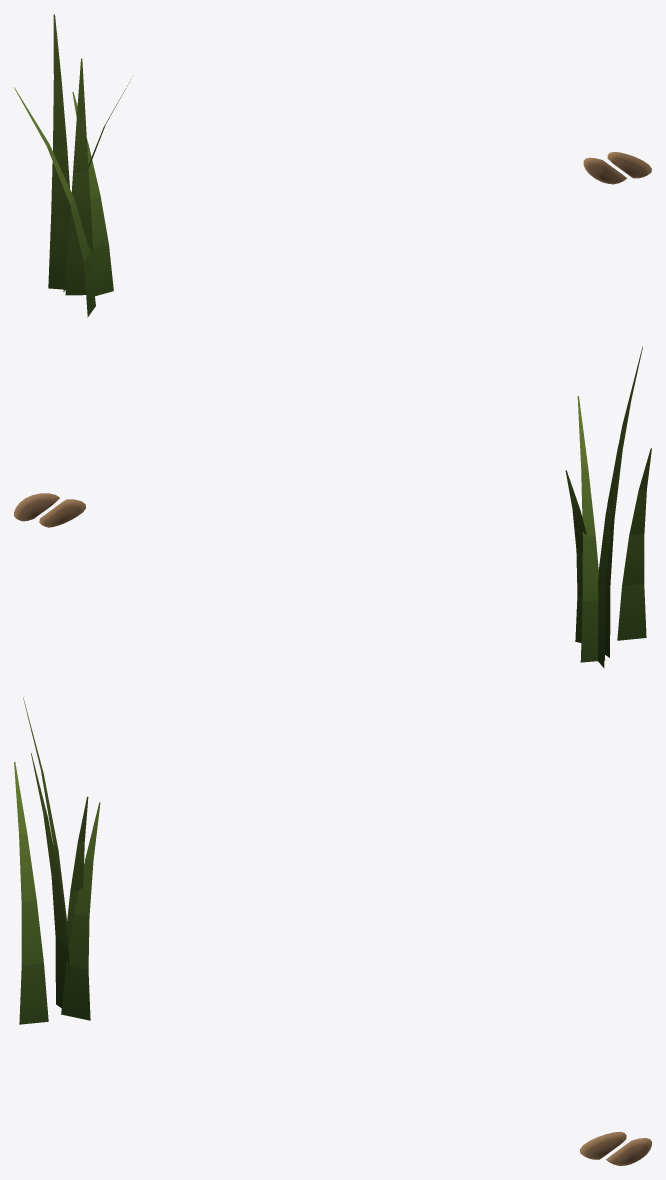
Rendered from props.glb.
3 views of the same model, one above another, from view 1: azimuth 30°, elevation 25°; view 2: azimuth 150°, elevation 25°; view 3: azimuth 330°, elevation 25° (orthographic). The views are drawn at different scales.
Visible parts, largest first — view 1: GrassClump, Footprint; view 2: GrassClump, Footprint; view 3: GrassClump, Footprint.
Part boxes in pixels (box(x1,y1,x2,y2)): GrassClump: box(14, 14, 133, 317); Footprint: box(583, 152, 651, 184); GrassClump: box(565, 346, 651, 667); Footprint: box(14, 493, 85, 527); GrassClump: box(14, 697, 100, 1024); Footprint: box(580, 1131, 651, 1165).
Bounding box in the file's own units: 1.12 × 0.5244 × 0.1444.
